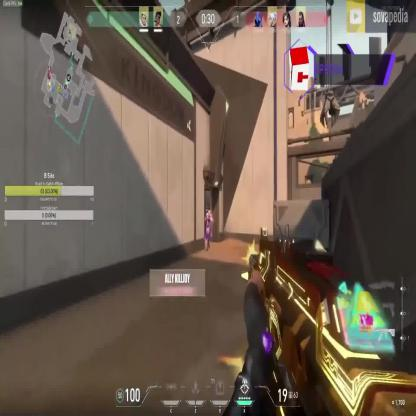enemy: (201, 207, 214, 249)
enemy_head: (208, 209, 212, 216)
